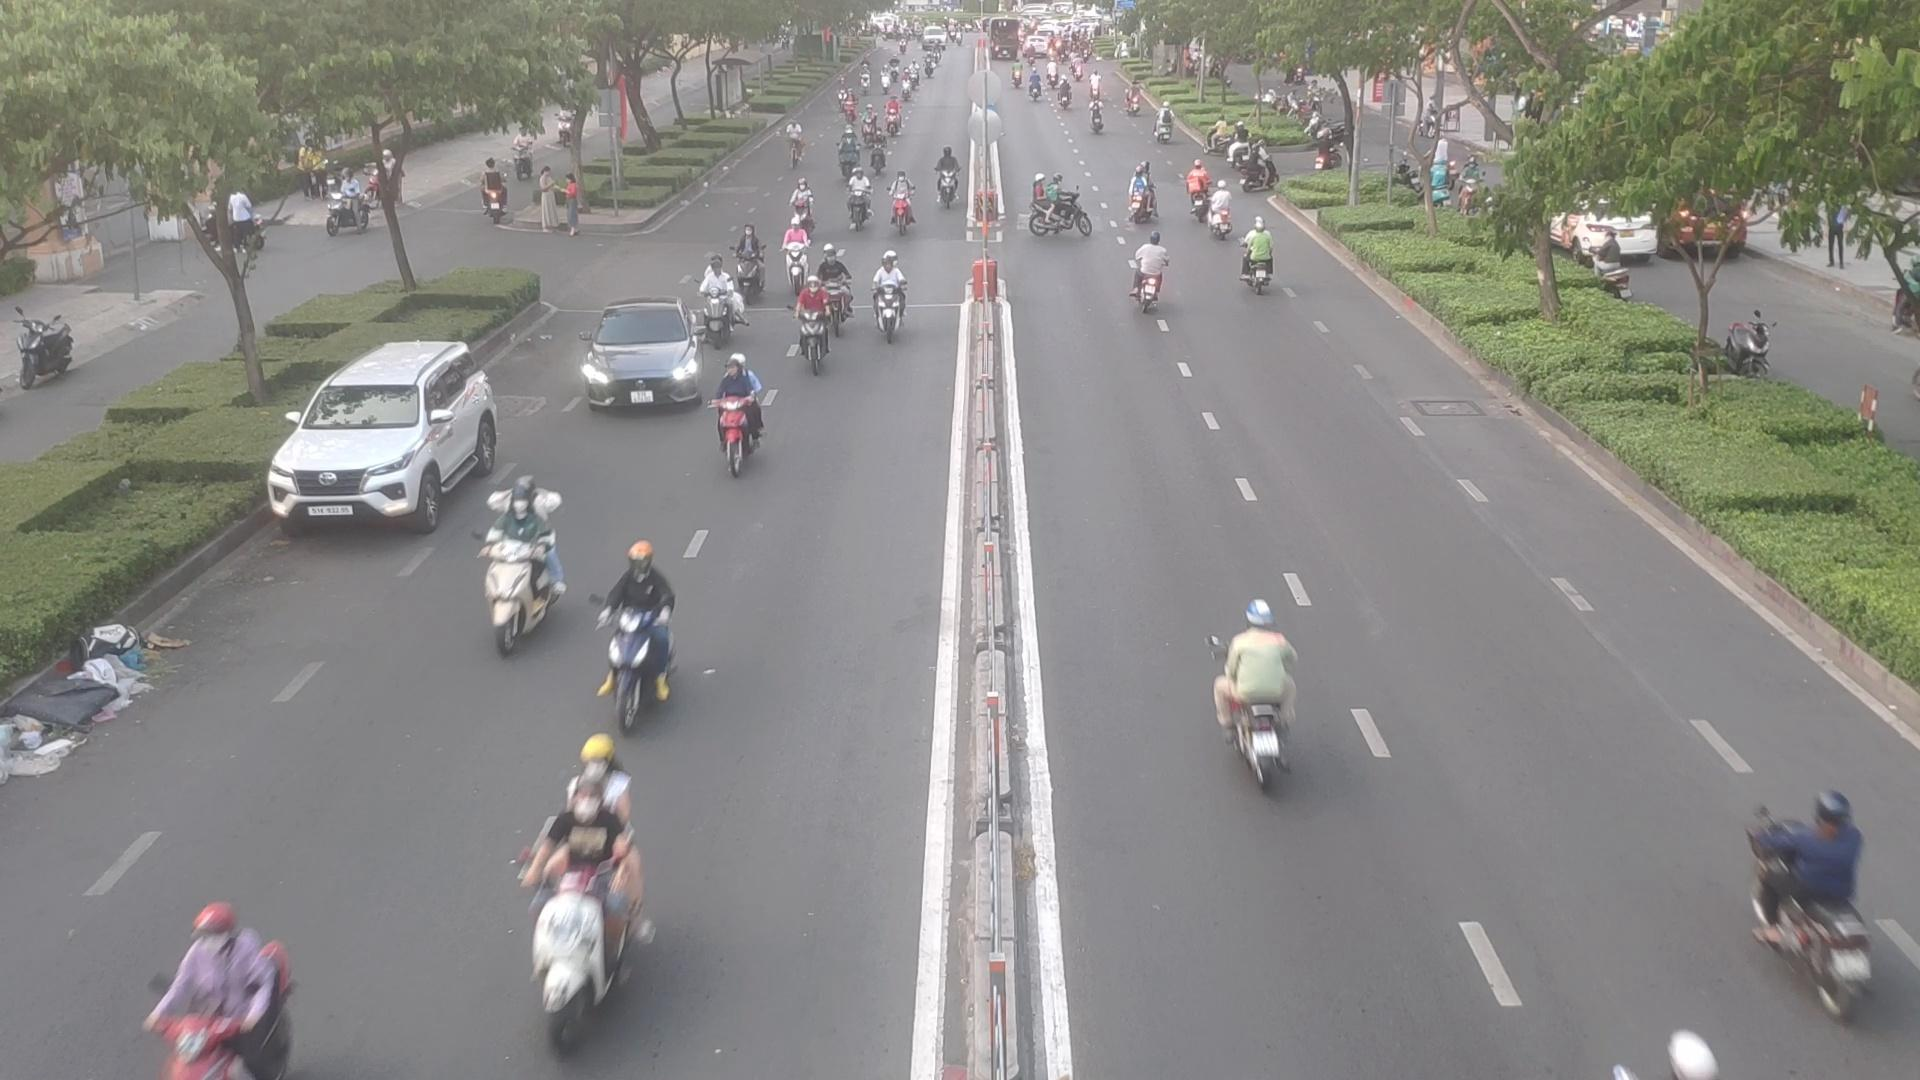car: (272, 343, 514, 533), (574, 301, 709, 409)
motorbike: (522, 783, 665, 1046), (1759, 794, 1891, 1018), (132, 909, 295, 1080), (1207, 611, 1308, 786), (465, 473, 560, 651), (599, 545, 683, 720), (700, 353, 764, 473), (790, 273, 843, 371), (1025, 173, 1097, 243), (694, 261, 749, 343), (869, 252, 913, 342), (1127, 237, 1175, 316), (1237, 222, 1284, 291), (818, 243, 855, 328), (729, 233, 767, 295), (1127, 167, 1166, 223), (884, 175, 916, 237), (785, 223, 818, 284), (931, 145, 960, 208), (1211, 175, 1238, 241), (844, 170, 874, 227), (1187, 160, 1211, 229), (790, 178, 822, 227), (837, 125, 860, 183), (870, 128, 891, 174)
